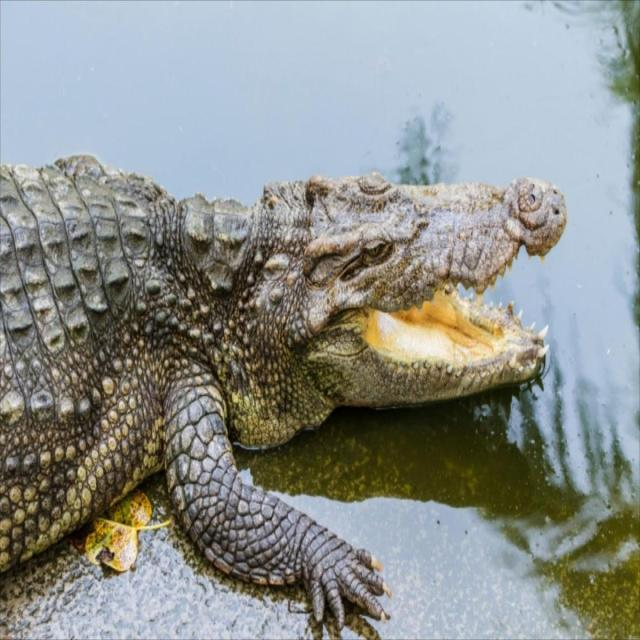crocodile: (0, 156, 570, 615)
